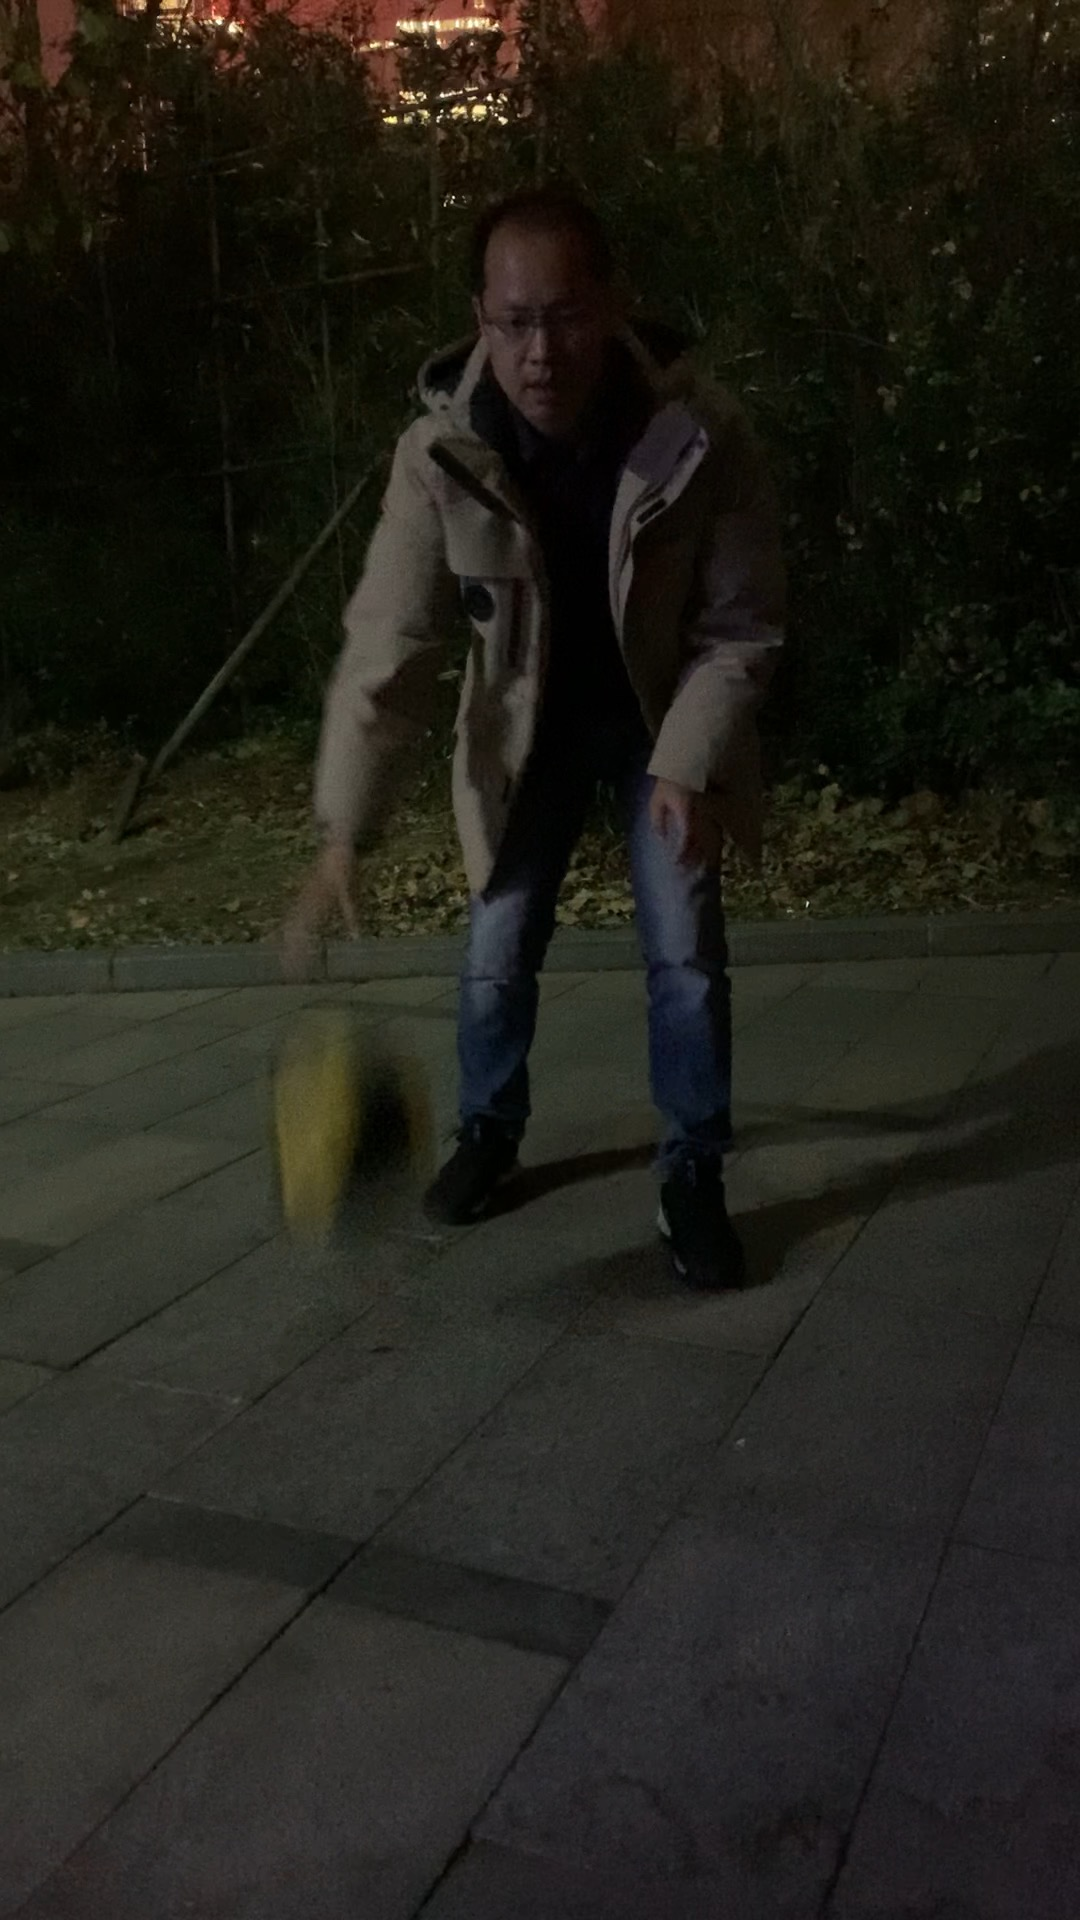ball: (247, 1023, 444, 1222)
